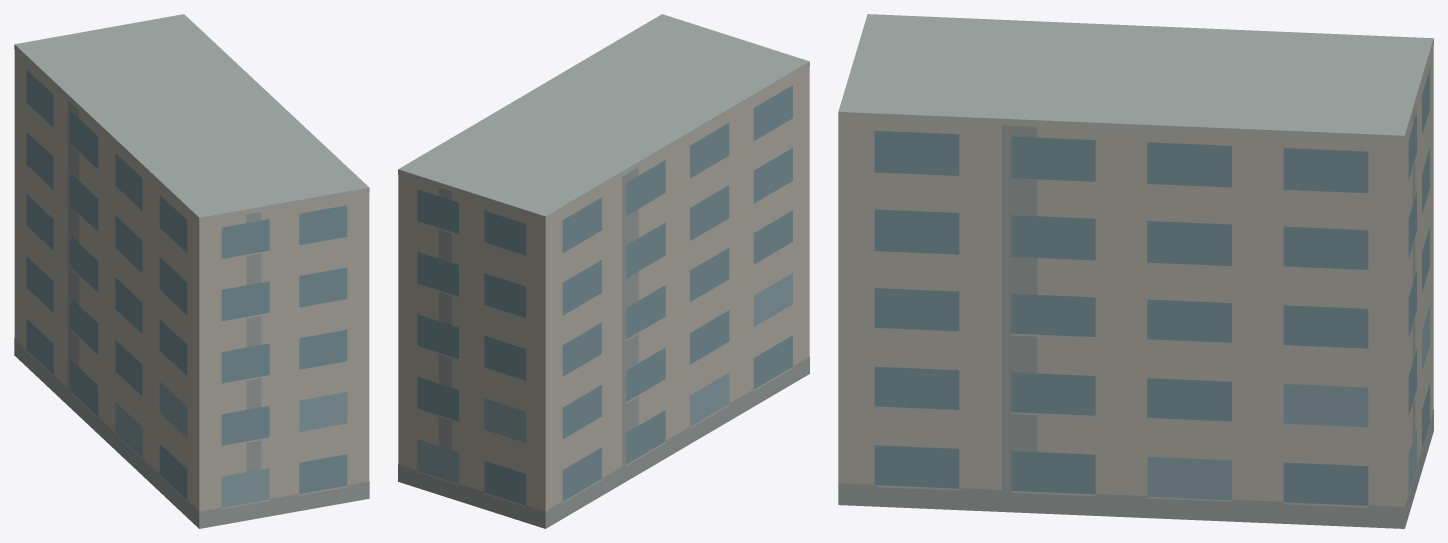
The model's file is survey-upis-32878947.glb.
3 views of the same model, side by side, from view 1: azimuth 30°, elevation 25°; view 2: azimuth 150°, elevation 25°; view 3: azimuth 270°, elevation 25° (orthographic). The views are drawn at different scales.
Parts seen in each view (by area): view 1: survey-upis-32878947.tmp; view 2: survey-upis-32878947.tmp; view 3: survey-upis-32878947.tmp.
Boxes of the visible parts, x1,y1,x2,y2 form: survey-upis-32878947.tmp: [14, 14, 369, 528]; survey-upis-32878947.tmp: [398, 14, 809, 528]; survey-upis-32878947.tmp: [838, 14, 1433, 528].
Size of the model in its own units: 9.64 by 14.5 by 19.91.
